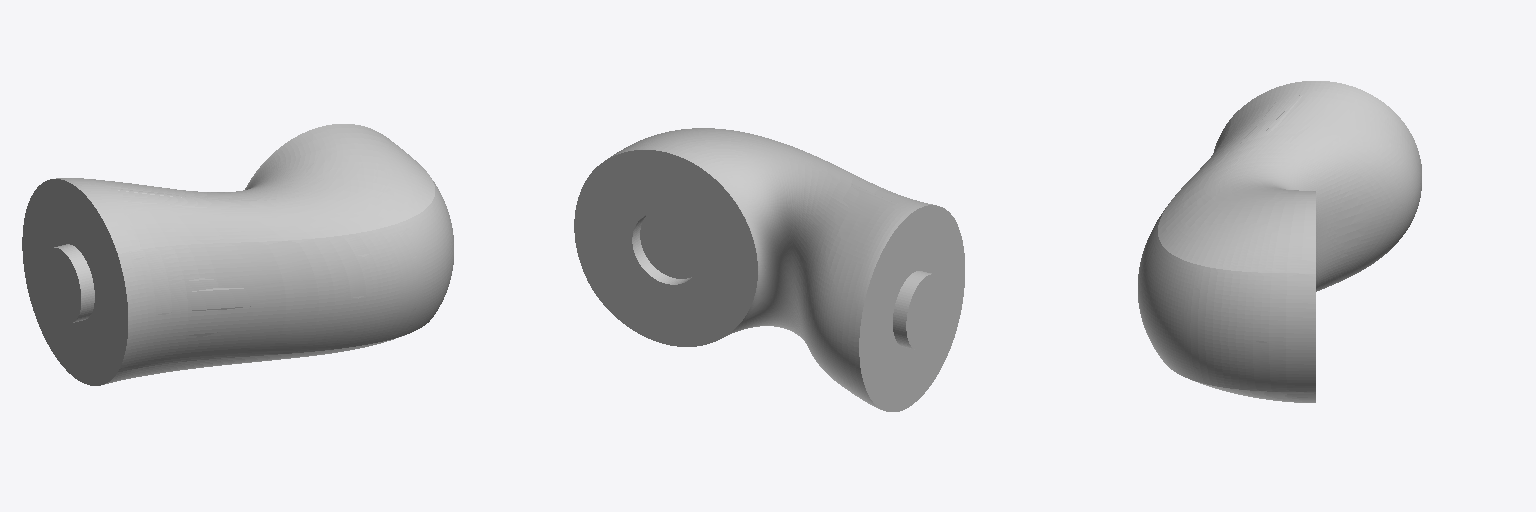
The picture shows the model from 3 angles: view 1: azimuth 30°, elevation 25°; view 2: azimuth 150°, elevation 25°; view 3: azimuth 270°, elevation 25°; orthographic projection.
Visible parts, largest first — view 1: Link_3; view 2: Link_3; view 3: Link_3.
Boxes of the visible parts, box(x1,y1,x2,y2) form: Link_3: box(22, 124, 453, 385); Link_3: box(574, 128, 964, 411); Link_3: box(1138, 81, 1421, 402).
Bounding box in the file's own units: 0.2605 × 0.136 × 0.1826.